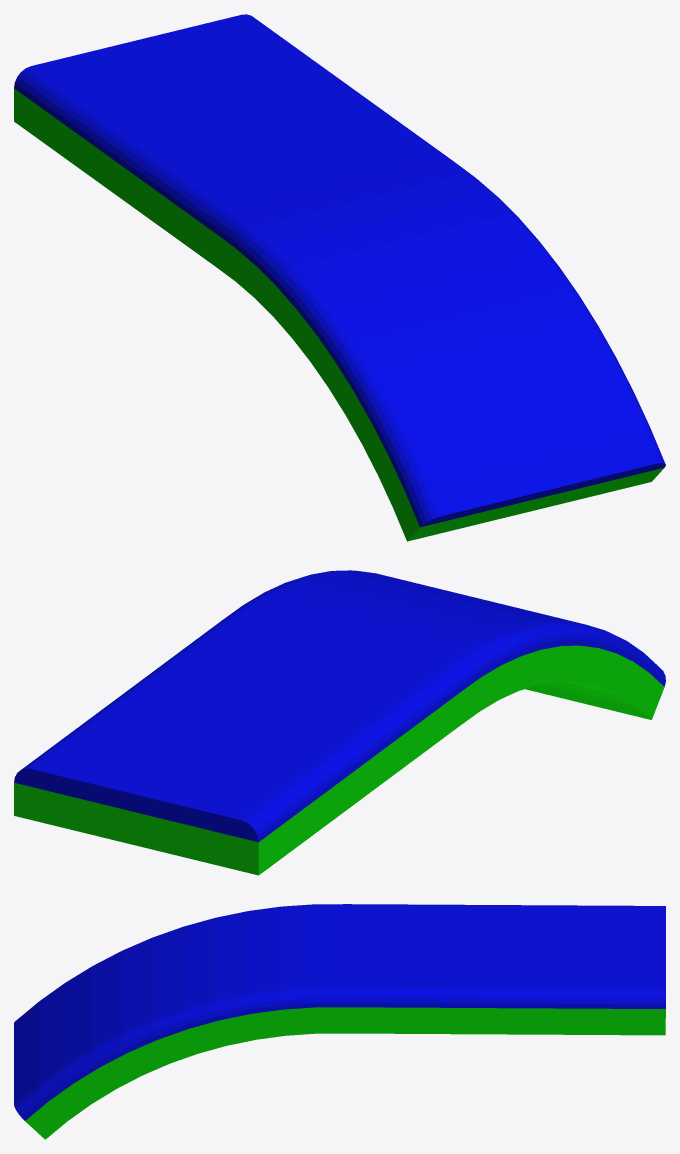
3 renders of one model, top to bottom at view 1: azimuth 30°, elevation 25°; view 2: azimuth 150°, elevation 25°; view 3: azimuth 270°, elevation 25°, orthographic. The views are drawn at different scales.
Visible parts, largest first — view 1: plank12; view 2: plank12; view 3: plank12.
Boxes of the visible parts, x1,y1,x2,y2 form: plank12: [14, 14, 665, 541]; plank12: [14, 570, 665, 875]; plank12: [14, 904, 665, 1139].
Bounding box in the file's own units: 500 × 363 × 1462.
